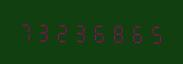eight: (107, 20, 124, 44)
five: (143, 20, 160, 45)
seven: (17, 18, 34, 42)
six: (89, 19, 106, 44), (125, 20, 142, 44)
three: (35, 19, 52, 43), (71, 19, 88, 43)
two: (53, 19, 70, 43)
